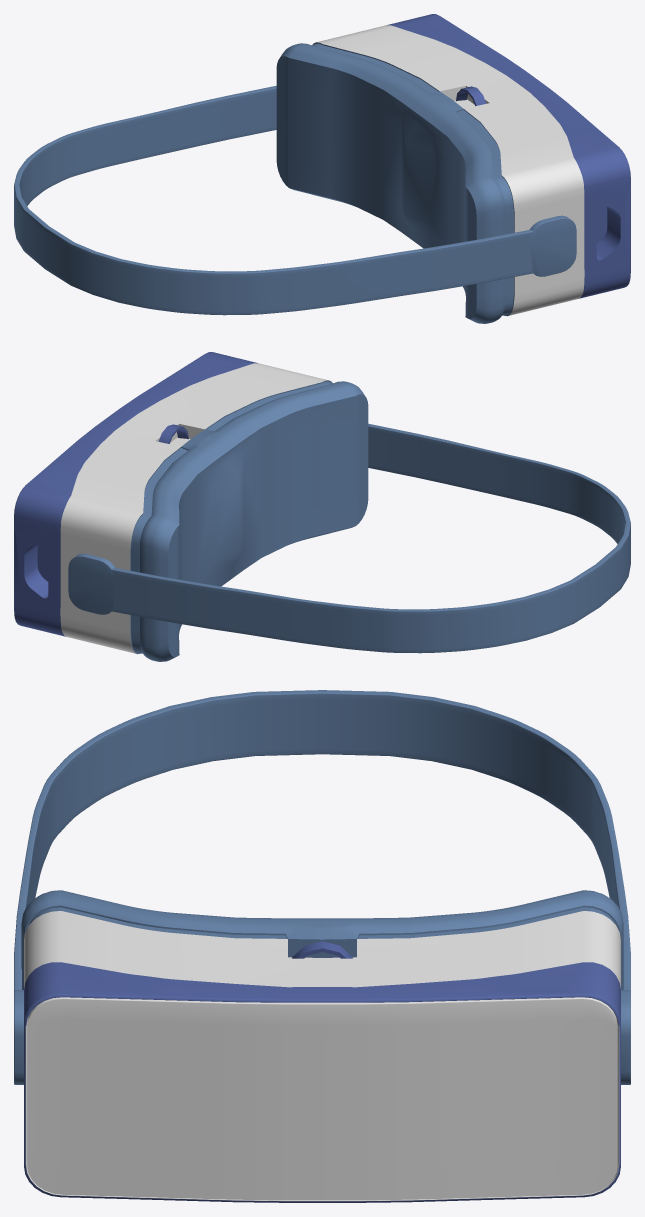
File: Generic VR.fbx
3 renders of one model, top to bottom at view 1: azimuth 30°, elevation 25°; view 2: azimuth 150°, elevation 25°; view 3: azimuth 270°, elevation 25°, orthographic. The views are drawn at different scales.
Parts seen in each view (by area): view 1: VR; view 2: VR; view 3: VR.
Boxes of the visible parts, left/top/right/bottom form: VR: left=14, top=14, right=630, bottom=323; VR: left=14, top=352, right=630, bottom=661; VR: left=14, top=690, right=630, bottom=1202.
Size of the model in its own units: 602 by 171 by 446.
